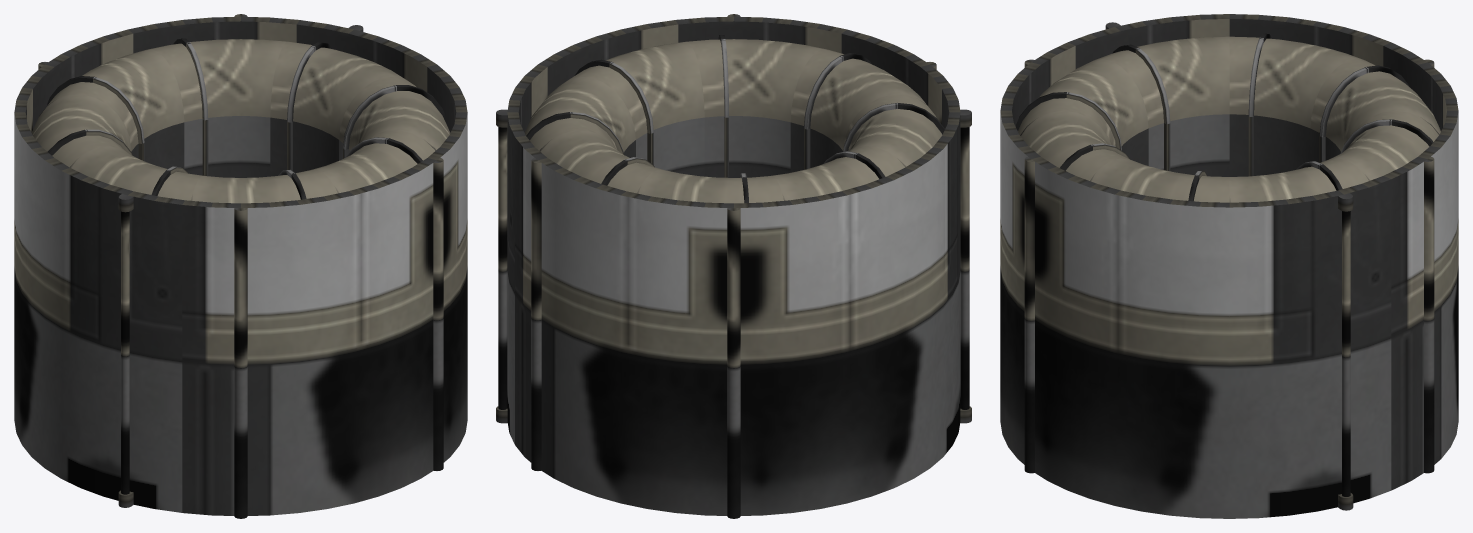
File: rotanev_toroidal_fuel_tank_s4_2.obj
3 views of the same model, side by side, from view 1: azimuth 30°, elevation 25°; view 2: azimuth 150°, elevation 25°; view 3: azimuth 270°, elevation 25° (orthographic).
Parts seen in each view (by area): view 1: 2; view 2: 2; view 3: 2.
Boxes of the visible parts, bbox=[...] form: 2: bbox=[14, 14, 467, 518]; 2: bbox=[496, 14, 971, 518]; 2: bbox=[1000, 14, 1458, 518].
Bounding box in the file's own units: 5 × 3.85 × 5.
